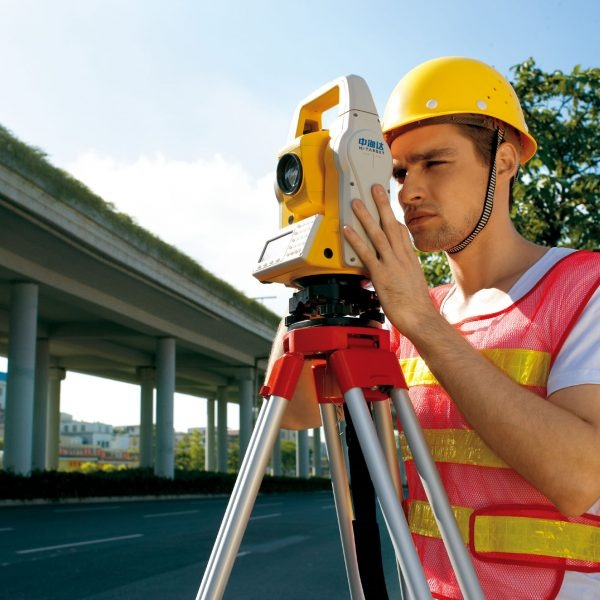yellow: (381, 54, 535, 260)
